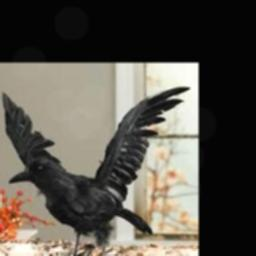Crow: (0, 85, 192, 256)
